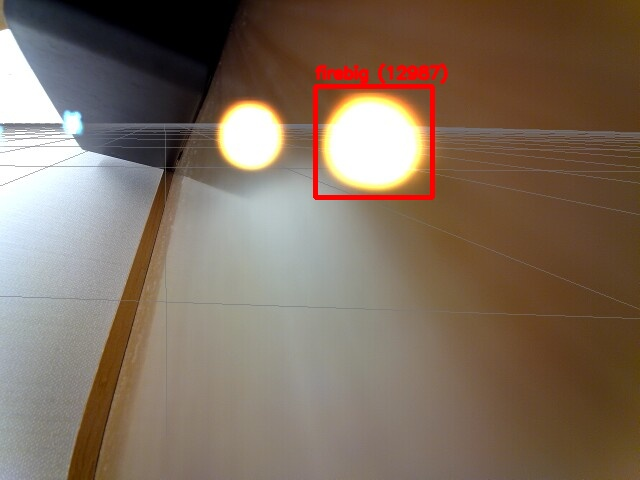firebig: (315, 86, 432, 197)
